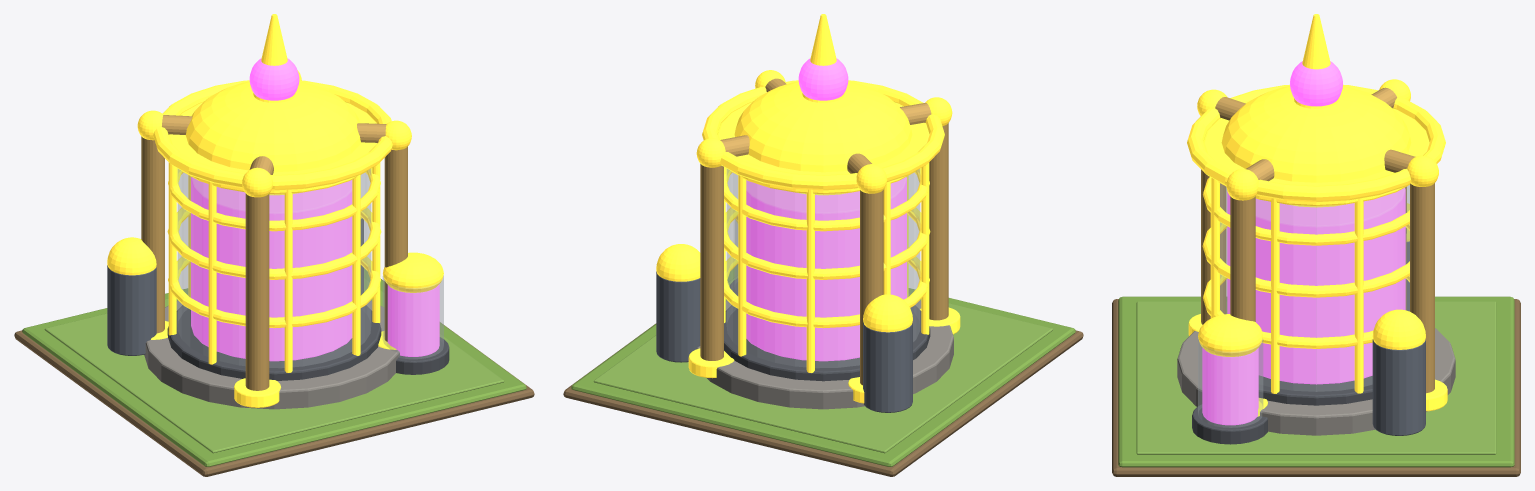
File: elixir_collector_lv8.glb
The picture shows the model from 3 angles, left to right: view 1: azimuth 30°, elevation 25°; view 2: azimuth 150°, elevation 25°; view 3: azimuth 270°, elevation 25°; orthographic projection. The views are drawn at different scales.
Parts seen in each view (by area): view 1: GlassCylinder, ElixirLiquid, Base_Inner, BrassDome, Base_Grass, WellBase, Base_Dirt, EC_CrownHalo, PipeDown_3, WellIronRing, AuxTankGlass, EC_BoosterTank_-1 (+21 smaller); view 2: GlassCylinder, Base_Inner, ElixirLiquid, BrassDome, Base_Grass, WellBase, Base_Dirt, EC_CrownHalo, PipeDown_1, EC_BoosterTank_-1, WellIronRing, EC_BoosterTank_1 (+17 smaller); view 3: Base_Inner, GlassCylinder, ElixirLiquid, BrassDome, Base_Grass, Base_Dirt, WellBase, EC_CrownHalo, AuxTankGlass, EC_BoosterTank_1, PipeDown_1, AuxTankElixir (+21 smaller).
Boxes of the visible parts, x1,y1,x2,y2 form: GlassCylinder: [177, 169, 371, 367]; ElixirLiquid: [191, 177, 352, 361]; Base_Inner: [44, 278, 504, 453]; BrassDome: [185, 81, 360, 195]; Base_Grass: [22, 268, 526, 466]; WellBase: [144, 300, 399, 409]; Base_Dirt: [14, 279, 534, 476]; EC_CrownHalo: [153, 80, 392, 190]; PipeDown_3: [245, 193, 269, 390]; WellIronRing: [167, 305, 381, 380]; AuxTankGlass: [382, 276, 443, 358]; EC_BoosterTank_-1: [107, 265, 156, 355]; GlassCylinder: [726, 169, 920, 367]; Base_Inner: [593, 276, 1053, 453]; ElixirLiquid: [746, 177, 906, 361]; BrassDome: [734, 81, 912, 195]; Base_Grass: [571, 264, 1075, 466]; WellBase: [697, 300, 953, 409]; Base_Dirt: [563, 323, 1083, 476]; EC_CrownHalo: [702, 80, 944, 190]; PipeDown_1: [700, 164, 723, 360]; EC_BoosterTank_-1: [863, 322, 912, 412]; WellIronRing: [724, 305, 930, 381]; EC_BoosterTank_1: [656, 271, 700, 362]; Base_Inner: [1136, 301, 1496, 454]; GlassCylinder: [1220, 183, 1409, 391]; ElixirLiquid: [1227, 187, 1405, 384]; BrassDome: [1221, 86, 1411, 207]; Base_Grass: [1118, 296, 1514, 467]; Base_Dirt: [1112, 299, 1520, 476]; WellBase: [1177, 328, 1455, 435]; EC_CrownHalo: [1187, 84, 1445, 201]; AuxTankGlass: [1198, 339, 1263, 427]; EC_BoosterTank_1: [1372, 339, 1425, 435]; PipeDown_1: [1410, 183, 1434, 393]; AuxTankElixir: [1202, 347, 1258, 425].
Bounding box in the file's own units: 2.76 × 2.81 × 2.76.
